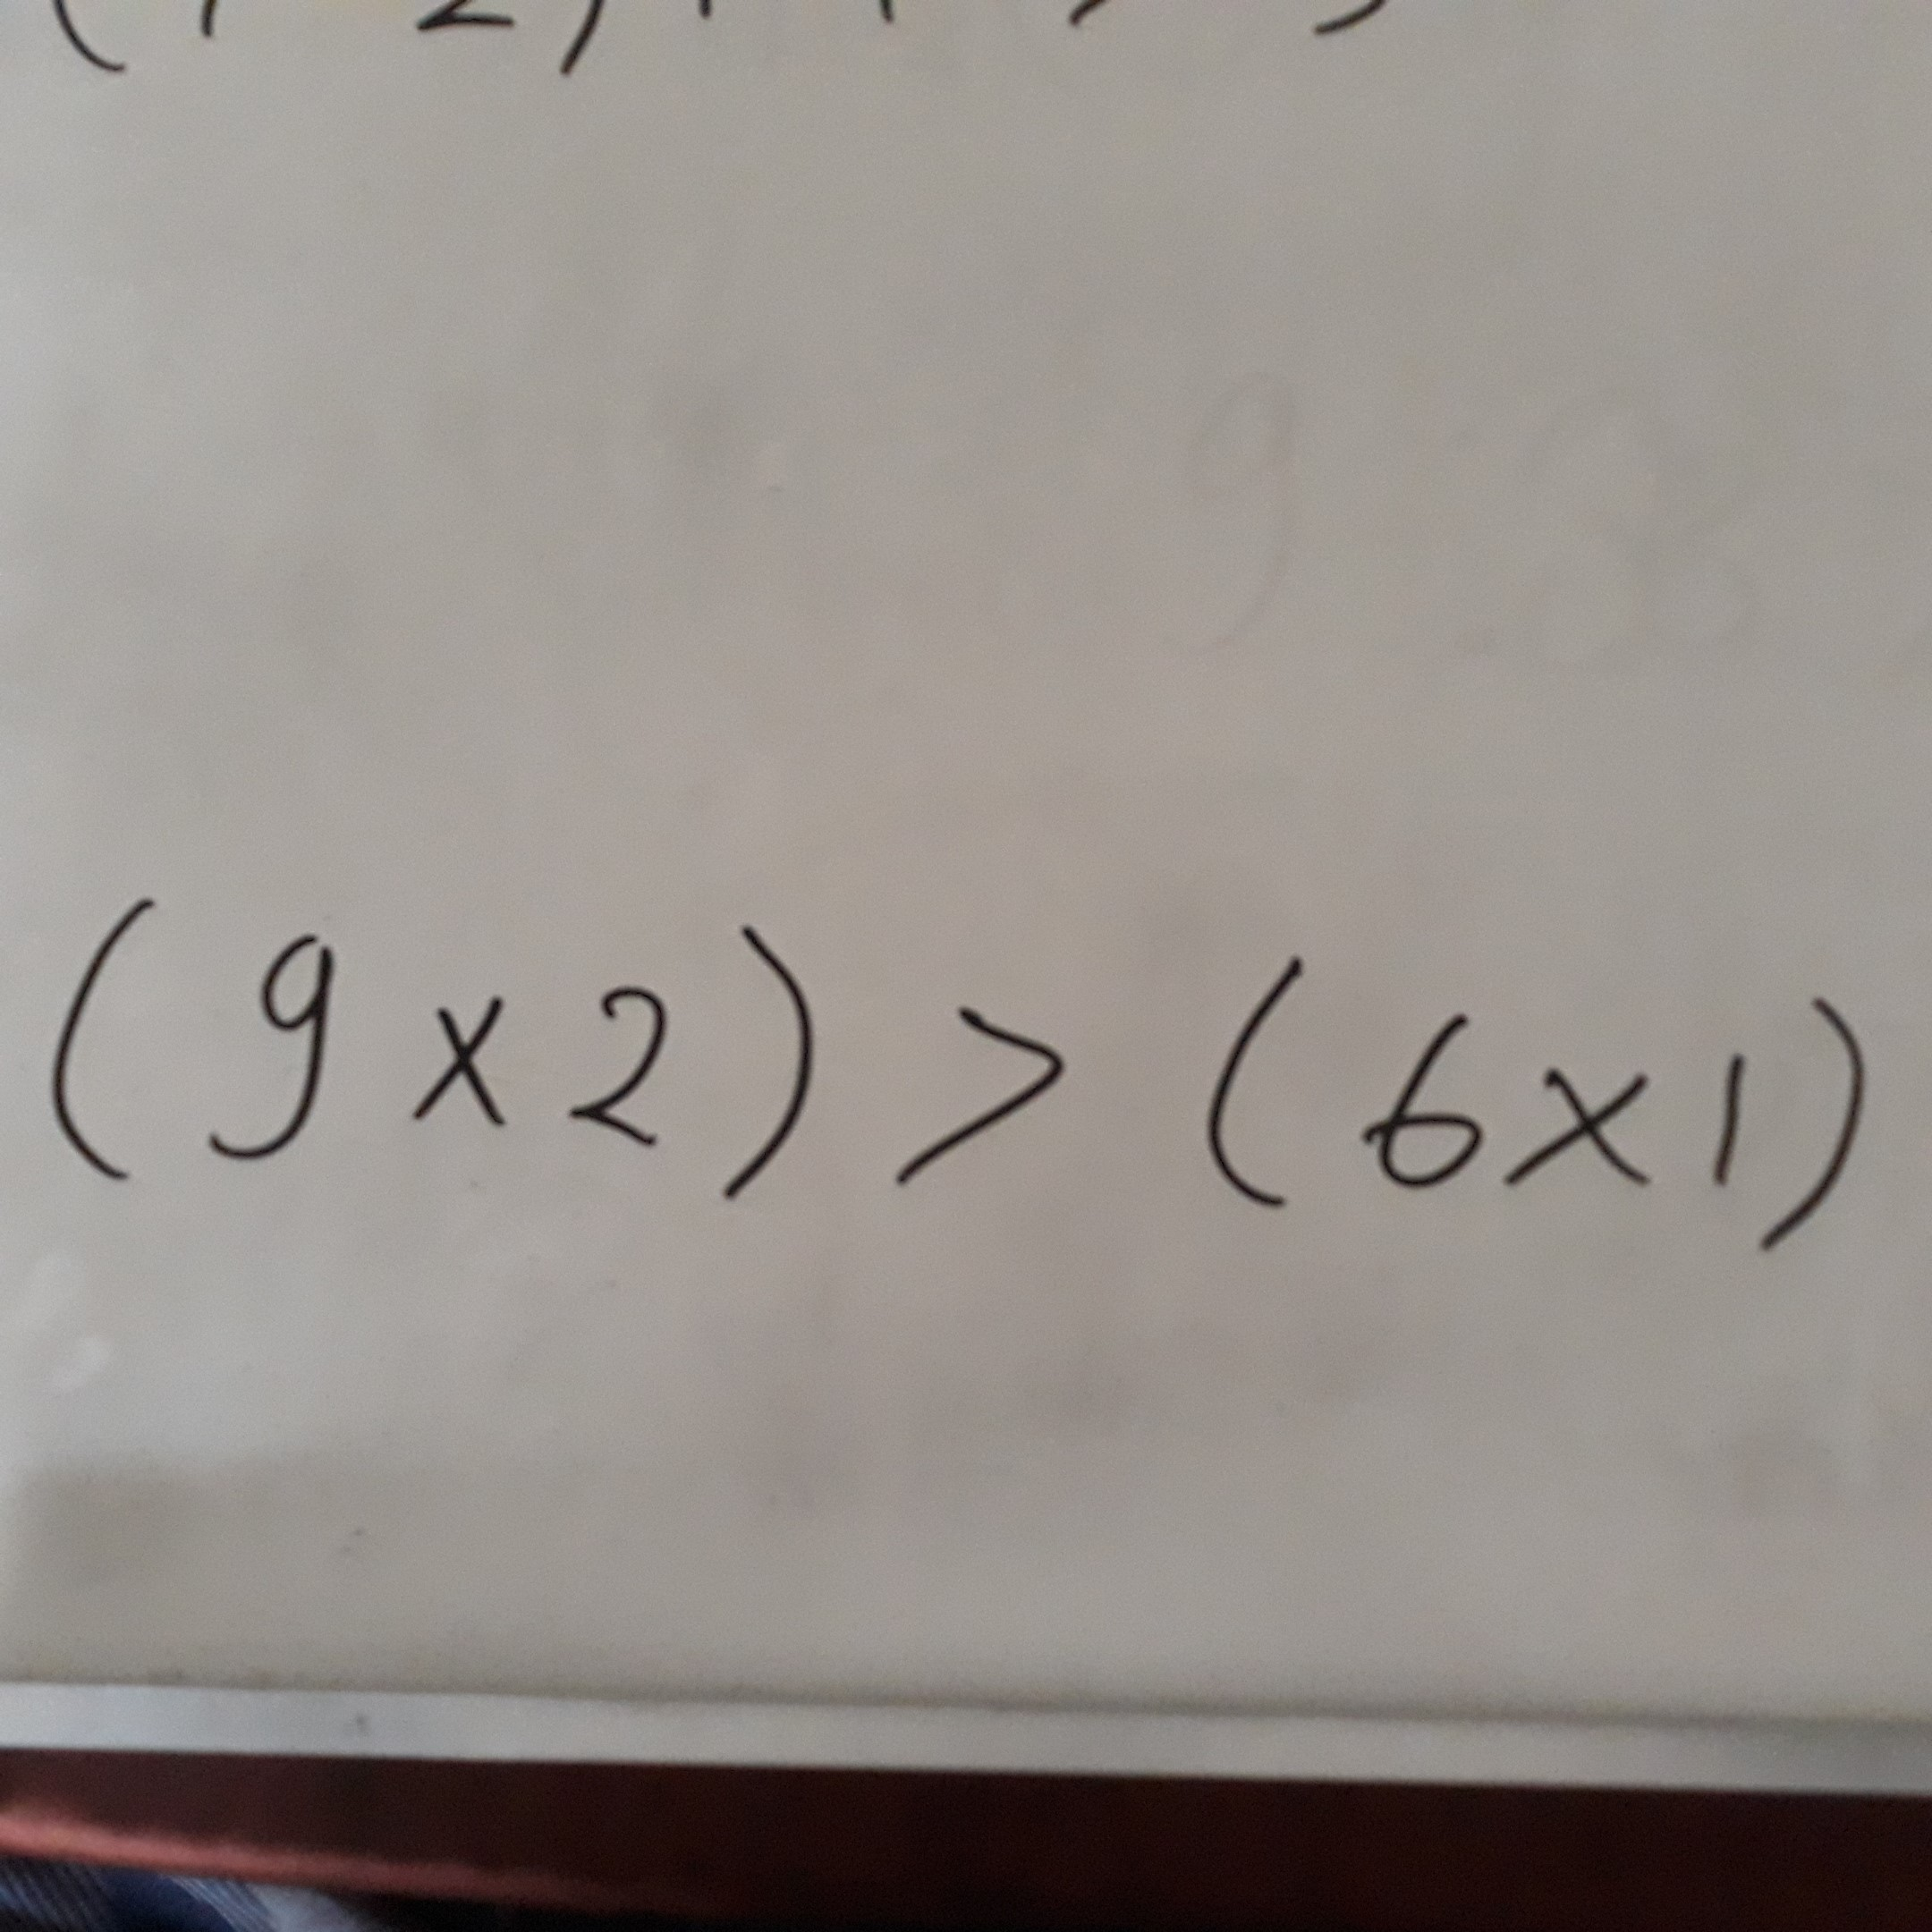closebracket: (716, 892, 856, 1212), (1750, 976, 1860, 1275)
morethan: (885, 979, 1080, 1205)
multi: (381, 961, 533, 1157), (1502, 1040, 1670, 1205)
num1: (1681, 1037, 1767, 1190)
num2: (541, 957, 701, 1169)
num6: (1343, 1002, 1500, 1212)
num9: (197, 868, 359, 1217)
openbracket: (10, 851, 172, 1200), (1174, 918, 1329, 1229)
